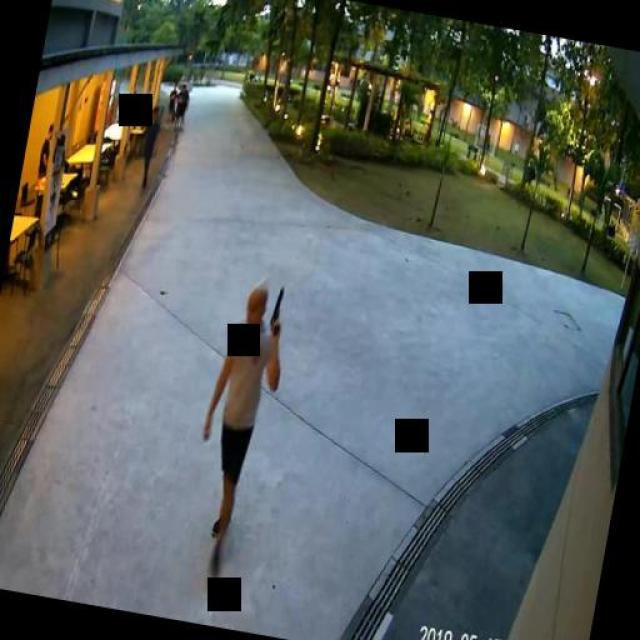gun: (266, 282, 286, 332)
